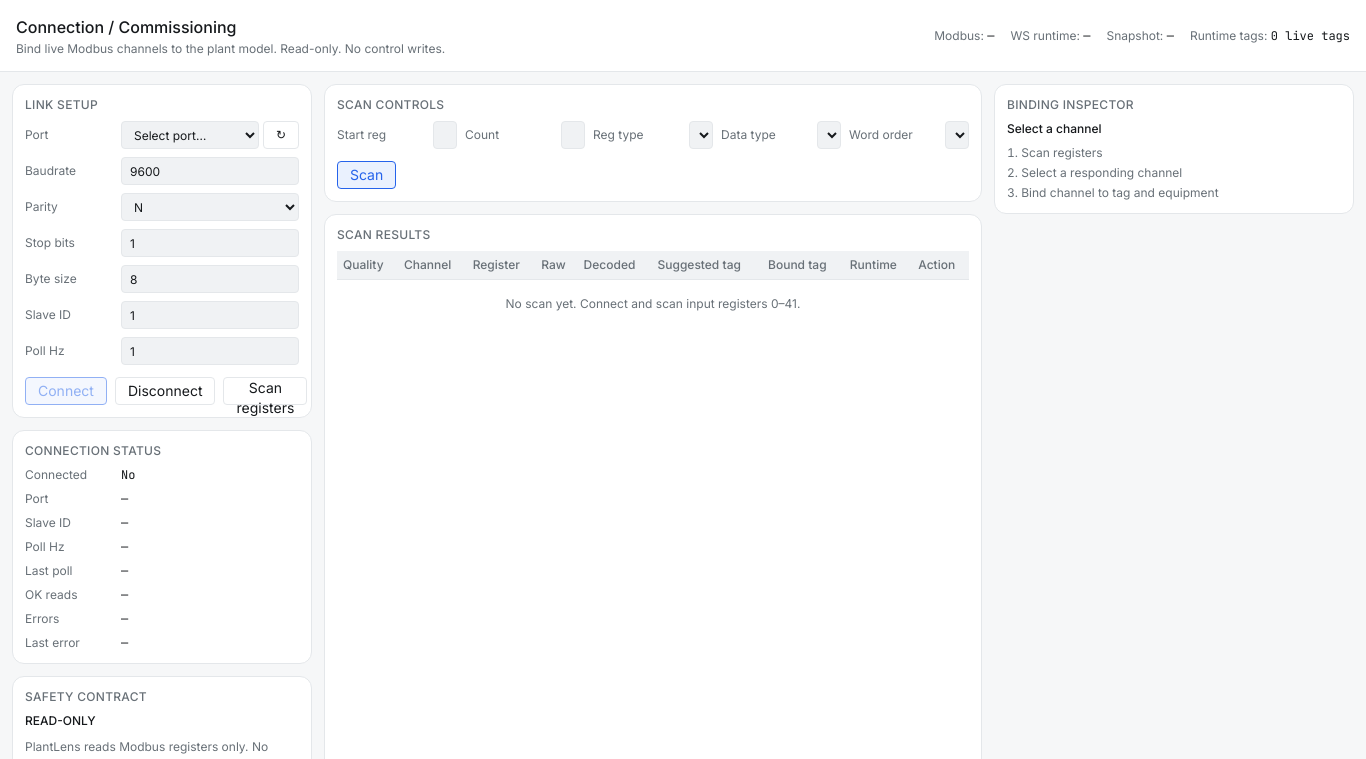
Test: ConnectionScreen › disables connect button until port selected
Expected: the heading "Connection / Commissioning" is shown, x1=16 y1=16 x2=236 y2=36
Expected: the button "Connect" is disabled, x1=25 y1=377 x2=107 y2=405
Click the button named "Refresh ports".
click(281, 135)  # box x1=263 y1=121 x2=299 y2=149
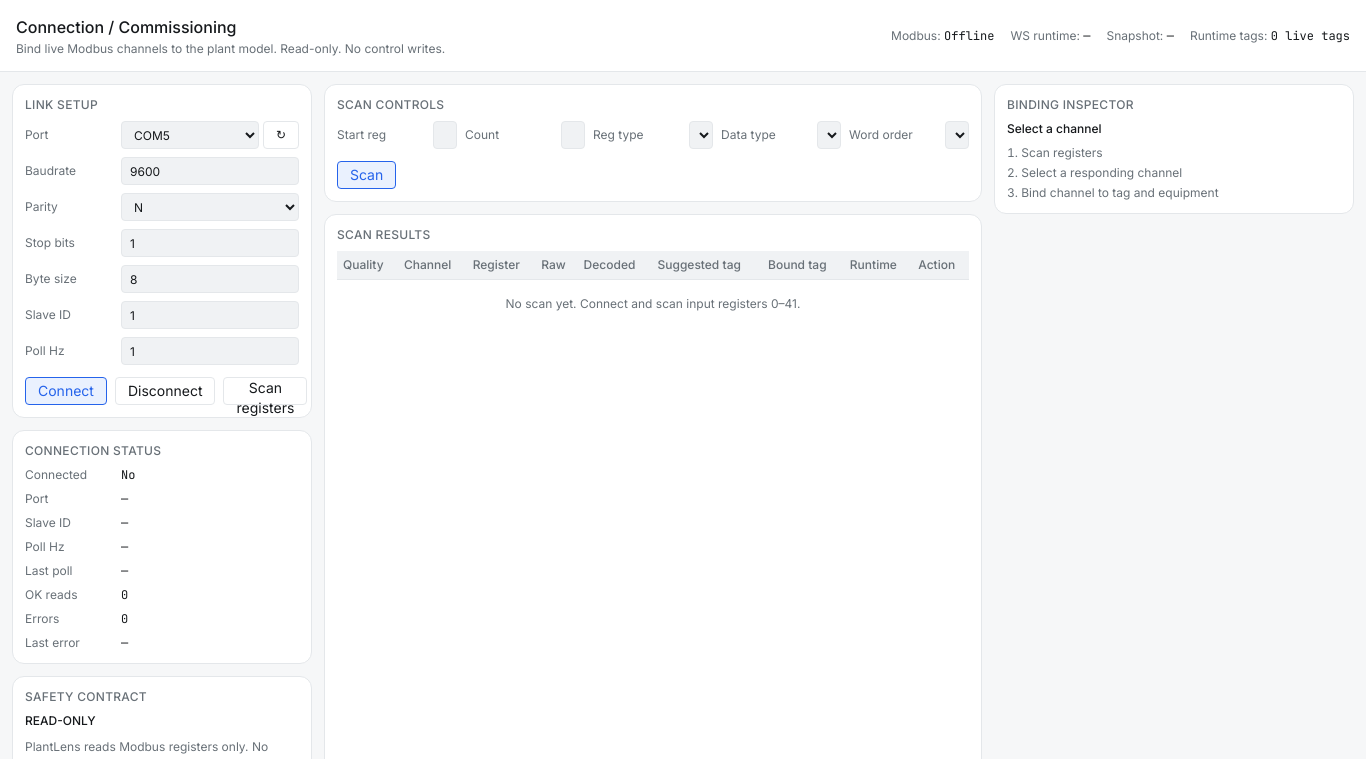
Result: the button "Connect" is enabled at x1=25 y1=377 x2=107 y2=405
